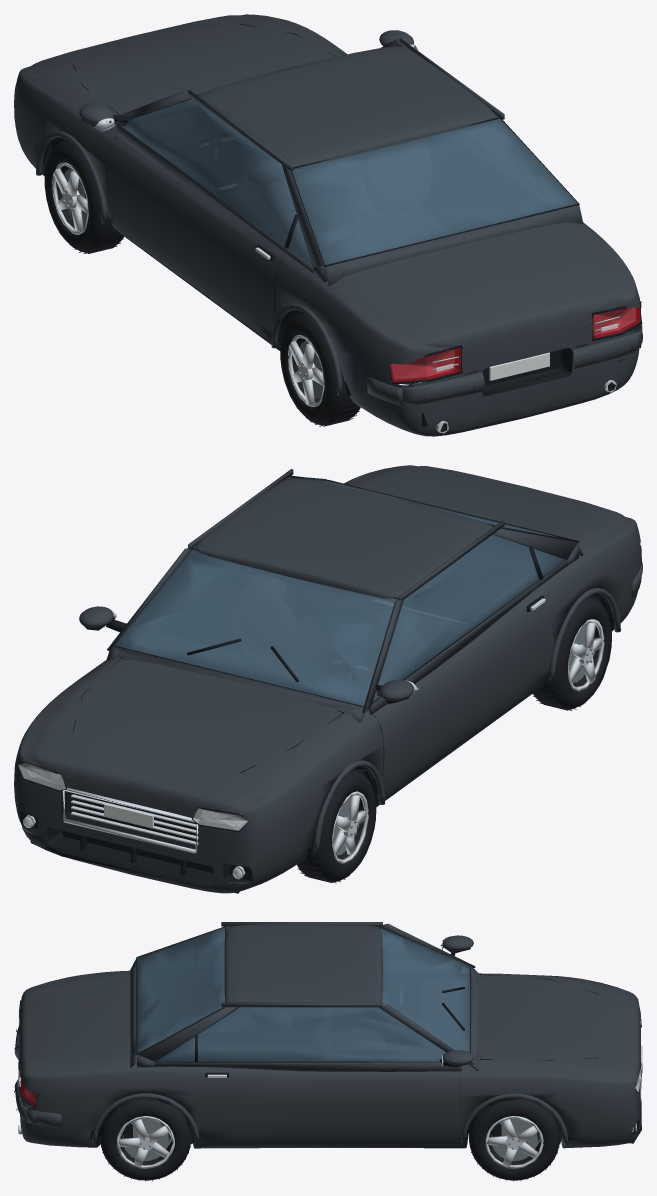
The model's file is car_coupe.glb.
The picture shows the model from 3 angles, top to bottom: view 1: azimuth 30°, elevation 25°; view 2: azimuth 150°, elevation 25°; view 3: azimuth 270°, elevation 25°; orthographic projection. The views are drawn at different scales.
Visible parts, largest first — view 1: Original two_door_coupe fourteen-section body shell, Aerodynamic mirror painted cap, Raked transparent windscreen, Continuous circumferential tread rib, Cast swept alloy spoke, Aerodynamic mirror lower housing, Flush corner wrapping ruby lamp lens, Front license plate, Deep wheel barrel inner lip; view 2: Original two_door_coupe fourteen-section body shell, Raked transparent windscreen, Aerodynamic mirror painted cap, Aerodynamic mirror lower housing, Continuous circumferential tread rib, Cast swept alloy spoke, Clear reversing lens insert, Deep wheel barrel inner lip, Front license plate; view 3: Original two_door_coupe fourteen-section body shell, Raked transparent windscreen, Aerodynamic mirror painted cap, Continuous circumferential tread rib, Aerodynamic mirror lower housing, Cast swept alloy spoke, Deep wheel barrel inner lip.
Part boxes in pixels (x1,y1,x2,y2): Original two_door_coupe fourteen-section body shell: (14,14,641,436); Aerodynamic mirror painted cap: (36,30,642,406); Raked transparent windscreen: (121,46,577,265); Continuous circumferential tread rib: (44,140,360,426); Cast swept alloy spoke: (52,44,635,433); Aerodynamic mirror lower housing: (42,24,642,432); Flush corner wrapping ruby lamp lens: (390,307,640,382); Front license plate: (489,352,549,380); Deep wheel barrel inner lip: (62,168,323,398); Original two_door_coupe fourteen-section body shell: (14,465,640,893); Raked transparent windscreen: (114,477,566,706); Aerodynamic mirror painted cap: (79,469,642,852); Aerodynamic mirror lower housing: (17,475,642,893); Continuous circumferential tread rib: (297,596,611,883); Cast swept alloy spoke: (25,598,604,878); Clear reversing lens insert: (18,763,248,879); Deep wheel barrel inner lip: (332,624,594,854); Front license plate: (104,803,153,827); Original two_door_coupe fourteen-section body shell: (18,970,641,1148); Raked transparent windscreen: (137,926,469,1061); Aerodynamic mirror painted cap: (14,922,568,1142); Continuous circumferential tread rib: (100,1098,559,1181); Aerodynamic mirror lower housing: (14,926,641,1146); Cast swept alloy spoke: (18,940,641,1168); Deep wheel barrel inner lip: (120,1118,540,1160).
Bounding box in the file's own units: 2.14 × 1.36 × 4.55.
